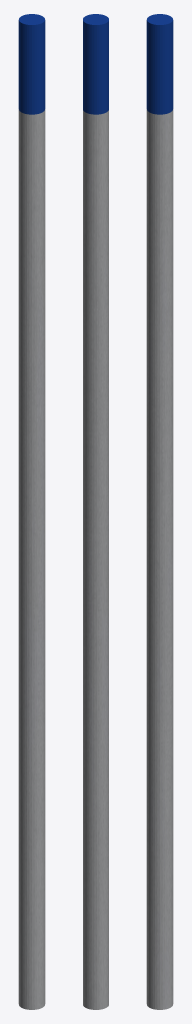
File: Updated0E3C98.glb
3 views of the same model, side by side, from view 1: azimuth 90°, elevation 25°; view 2: azimuth 150°, elevation 25°; view 3: azimuth 270°, elevation 25° (orthographic).
Visible parts, largest first — view 1: Long_Electrode_Body, Long_Electrode_Tip; view 2: Long_Electrode_Body, Long_Electrode_Tip; view 3: Long_Electrode_Body, Long_Electrode_Tip.
Part boxes in pixels (bbox=[...]): Long_Electrode_Body: bbox=[18, 109, 45, 1009]; Long_Electrode_Tip: bbox=[18, 14, 45, 114]; Long_Electrode_Body: bbox=[83, 110, 108, 1009]; Long_Electrode_Tip: bbox=[83, 14, 108, 114]; Long_Electrode_Body: bbox=[146, 109, 173, 1009]; Long_Electrode_Tip: bbox=[146, 14, 173, 114].
Bounding box in the file's own units: 0.4 × 16.5 × 0.4.
Materials: 2 (1 with a texture image).
